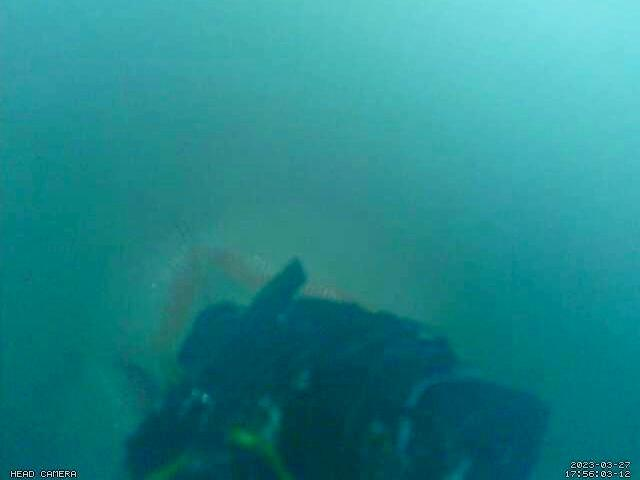head: (115, 243, 350, 420)
